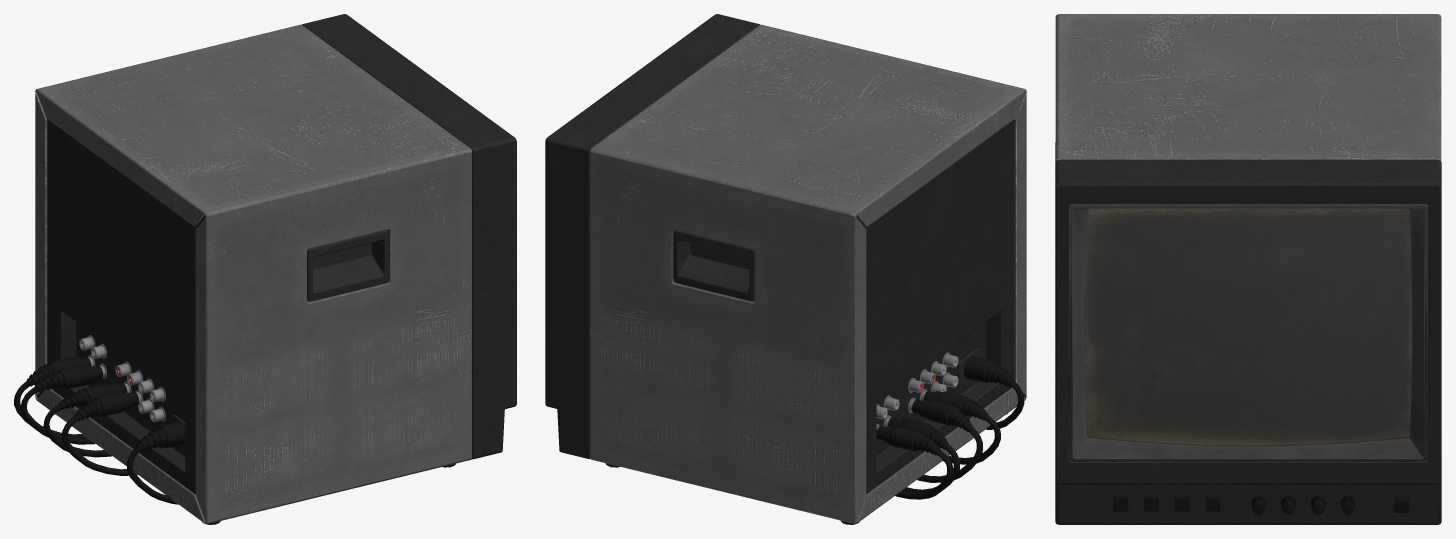
File: tv_cctv_monitor.glb
3 views of the same model, side by side, from view 1: azimuth 30°, elevation 25°; view 2: azimuth 150°, elevation 25°; view 3: azimuth 270°, elevation 25° (orthographic). The views are drawn at different scales.
Parts seen in each view (by area): view 1: TV_CCTV_02; view 2: TV_CCTV_02; view 3: TV_CCTV_02.
Boxes of the visible parts, x1,y1,x2,y2 form: TV_CCTV_02: [14, 14, 516, 524]; TV_CCTV_02: [545, 14, 1026, 524]; TV_CCTV_02: [1055, 14, 1441, 524].
Bounding box in the file's own units: 0.4849 × 0.4023 × 0.3904.
2 materials, 2 textured.
